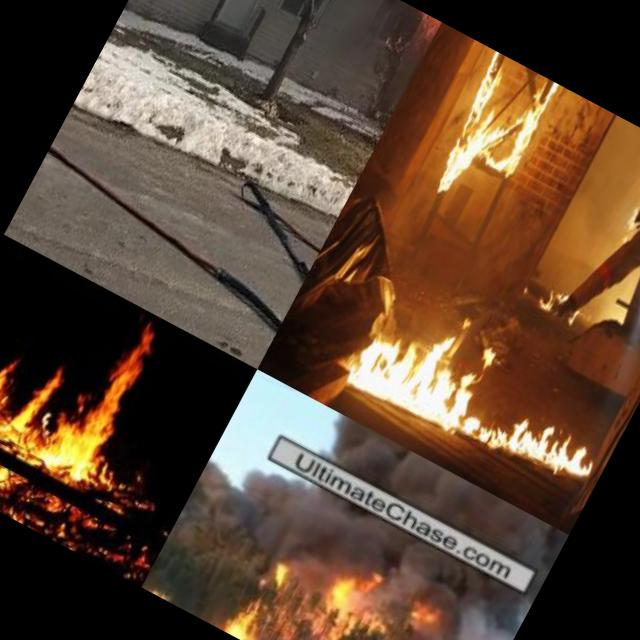fire: (341, 296, 618, 504), (0, 248, 183, 542), (217, 518, 439, 640), (398, 0, 562, 155), (619, 141, 640, 260), (142, 578, 182, 606)
smoke: (218, 446, 464, 608), (417, 563, 533, 640)
